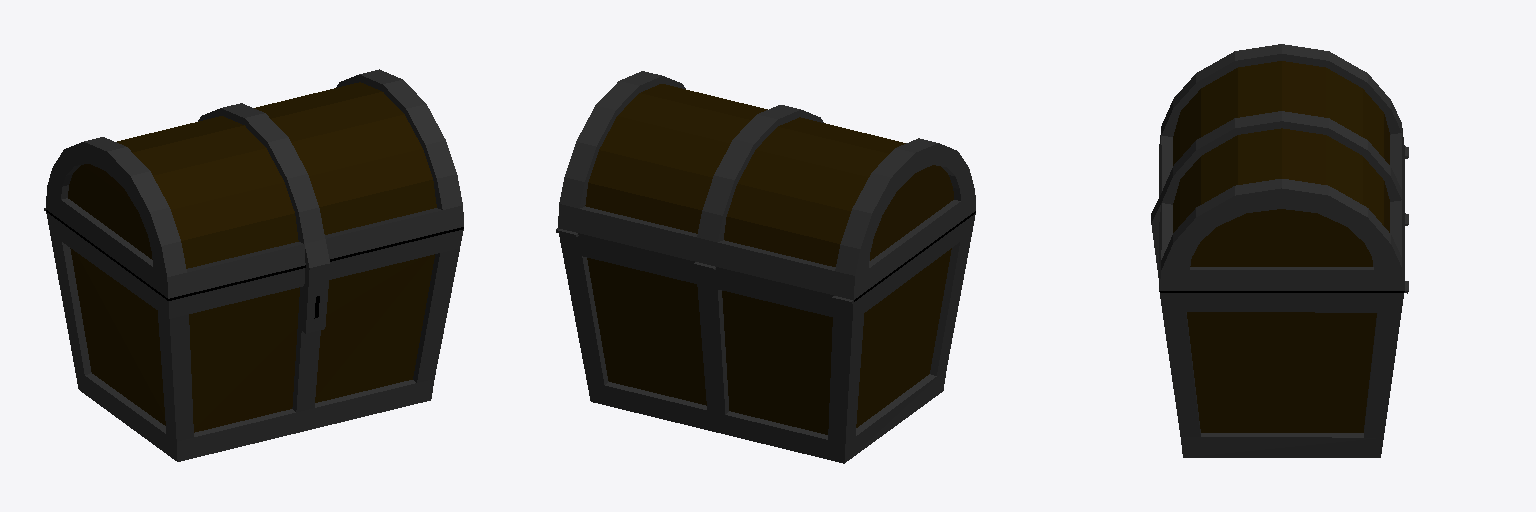
File: prop.obj
3 views of the same model, side by side, from view 1: azimuth 30°, elevation 25°; view 2: azimuth 150°, elevation 25°; view 3: azimuth 270°, elevation 25° (orthographic).
Visible parts, largest first — view 1: Treasure_Chest; view 2: Treasure_Chest; view 3: Treasure_Chest.
Part boxes in pixels (bbox=[...]): Treasure_Chest: bbox=[44, 69, 463, 461]; Treasure_Chest: bbox=[556, 71, 975, 463]; Treasure_Chest: bbox=[1151, 44, 1408, 457].
Bounding box in the file's own units: 4.28 × 3.86 × 3.22.